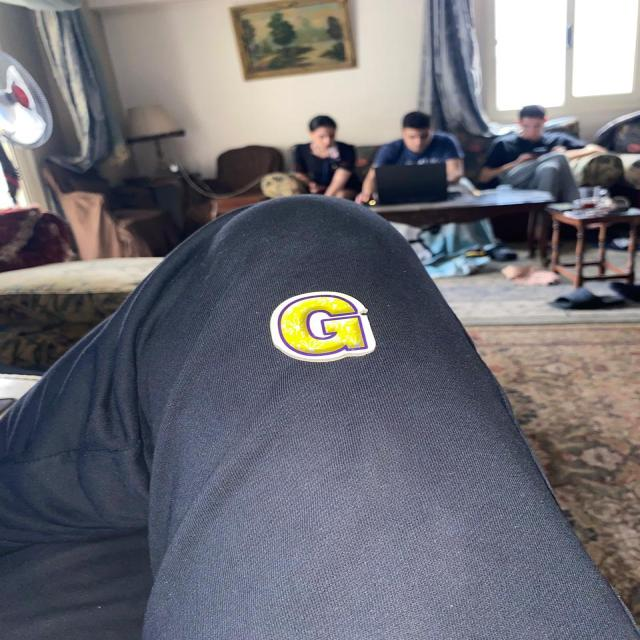G: (270, 292, 376, 361)
